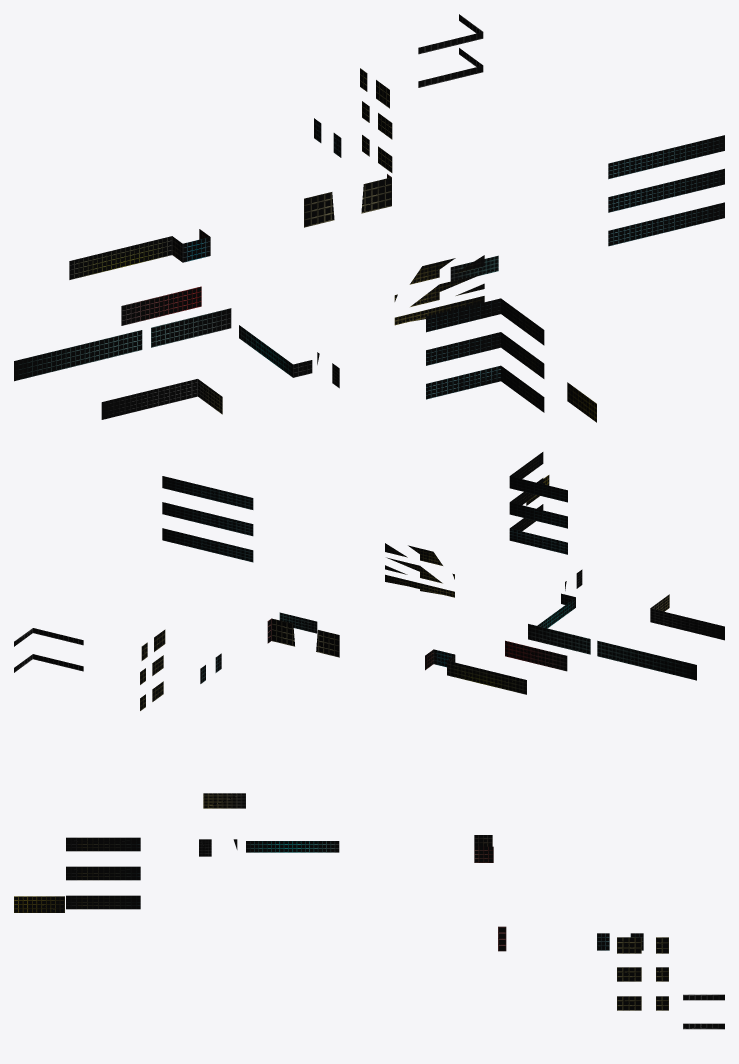
Rendered from ChicagoStealth_Alpha_25.glb.
3 renders of one model, top to bottom at view 1: azimuth 30°, elevation 25°; view 2: azimuth 150°, elevation 25°; view 3: azimuth 270°, elevation 25°, orthographic. The views are drawn at different scales.
Visible parts, largest first — view 1: ChicagoStealth_Alpha_25; view 2: ChicagoStealth_Alpha_25; view 3: ChicagoStealth_Alpha_25.
Boxes of the visible parts, x1,y1,x2,y2 form: ChicagoStealth_Alpha_25: [14, 14, 724, 422]; ChicagoStealth_Alpha_25: [14, 452, 724, 710]; ChicagoStealth_Alpha_25: [14, 793, 724, 1029].
Size of the model in its own units: 680 by 111 by 696.
Materials: 1 (1 with a texture image).
